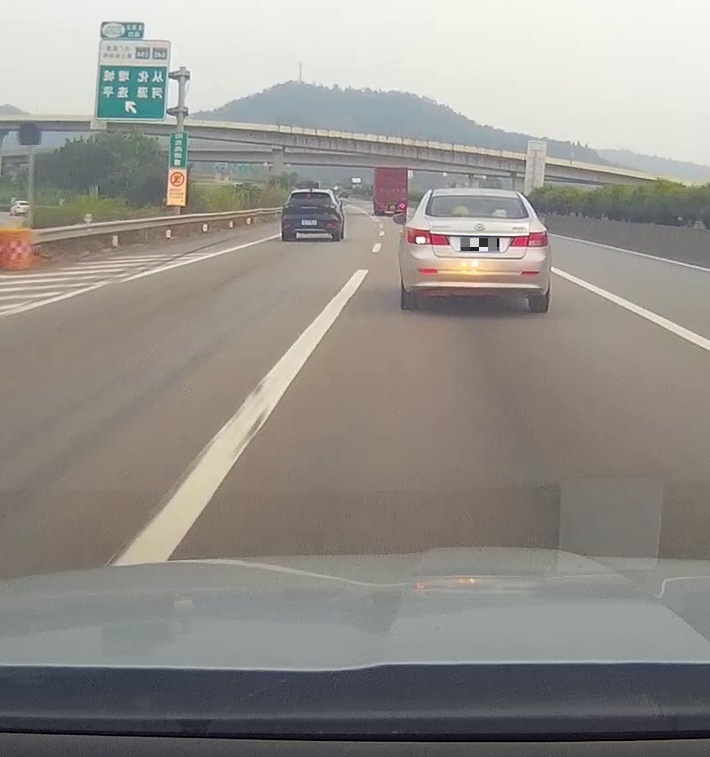L_light: (406, 228, 450, 246), (284, 205, 292, 208)
R_light: (510, 230, 548, 247), (327, 205, 336, 208)
T_light: (469, 195, 489, 199), (308, 193, 314, 194)
day-left: (402, 190, 551, 312)
day-no: (281, 190, 341, 240)
plate_1: (461, 238, 499, 251)
